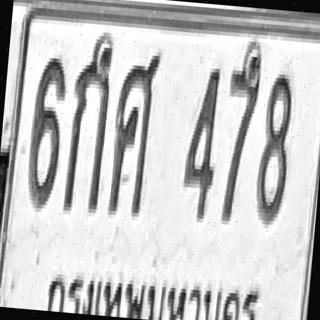A01: (62, 30, 115, 213)
A38: (107, 49, 160, 217)
N04: (179, 63, 223, 219)
N06: (24, 53, 68, 210)
N07: (218, 40, 262, 222)
N08: (253, 68, 295, 224)
